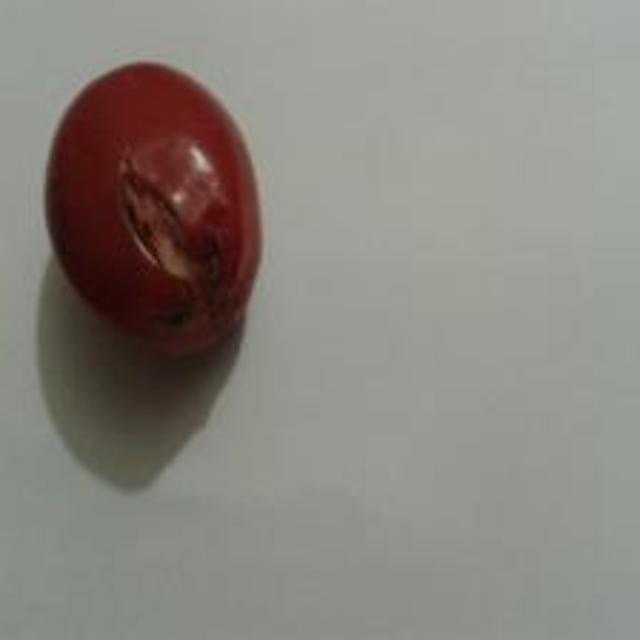defect: (39, 57, 271, 362)
